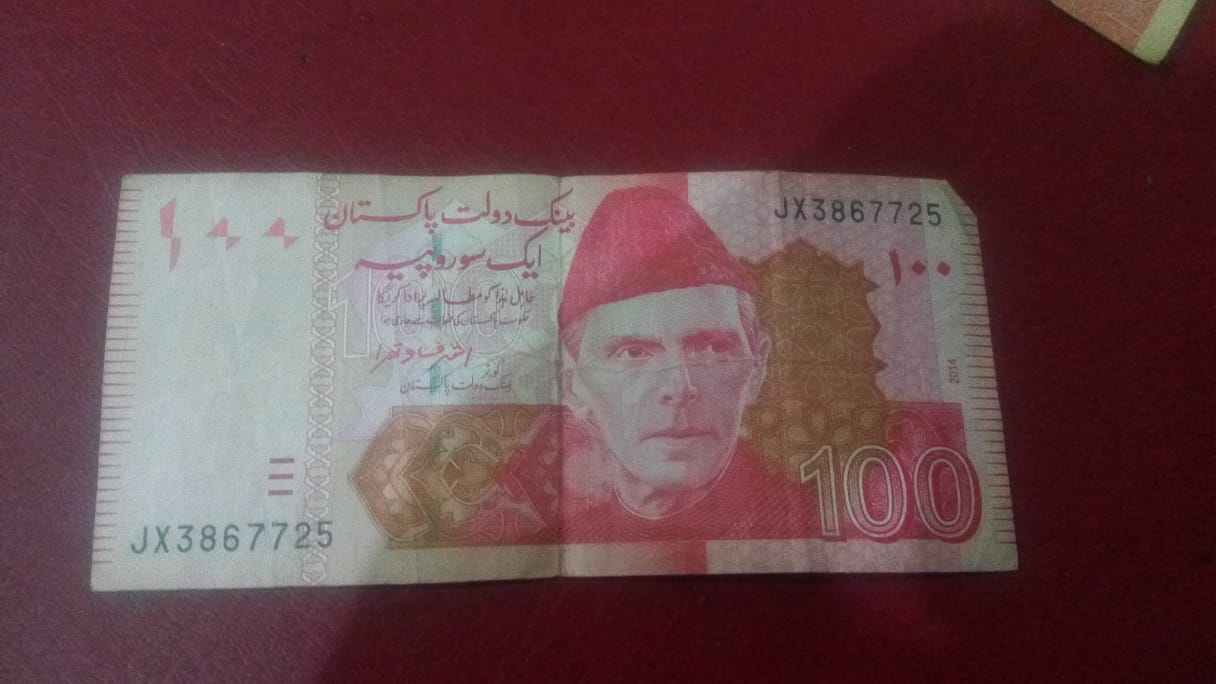100 rupee: (68, 145, 1083, 625)
